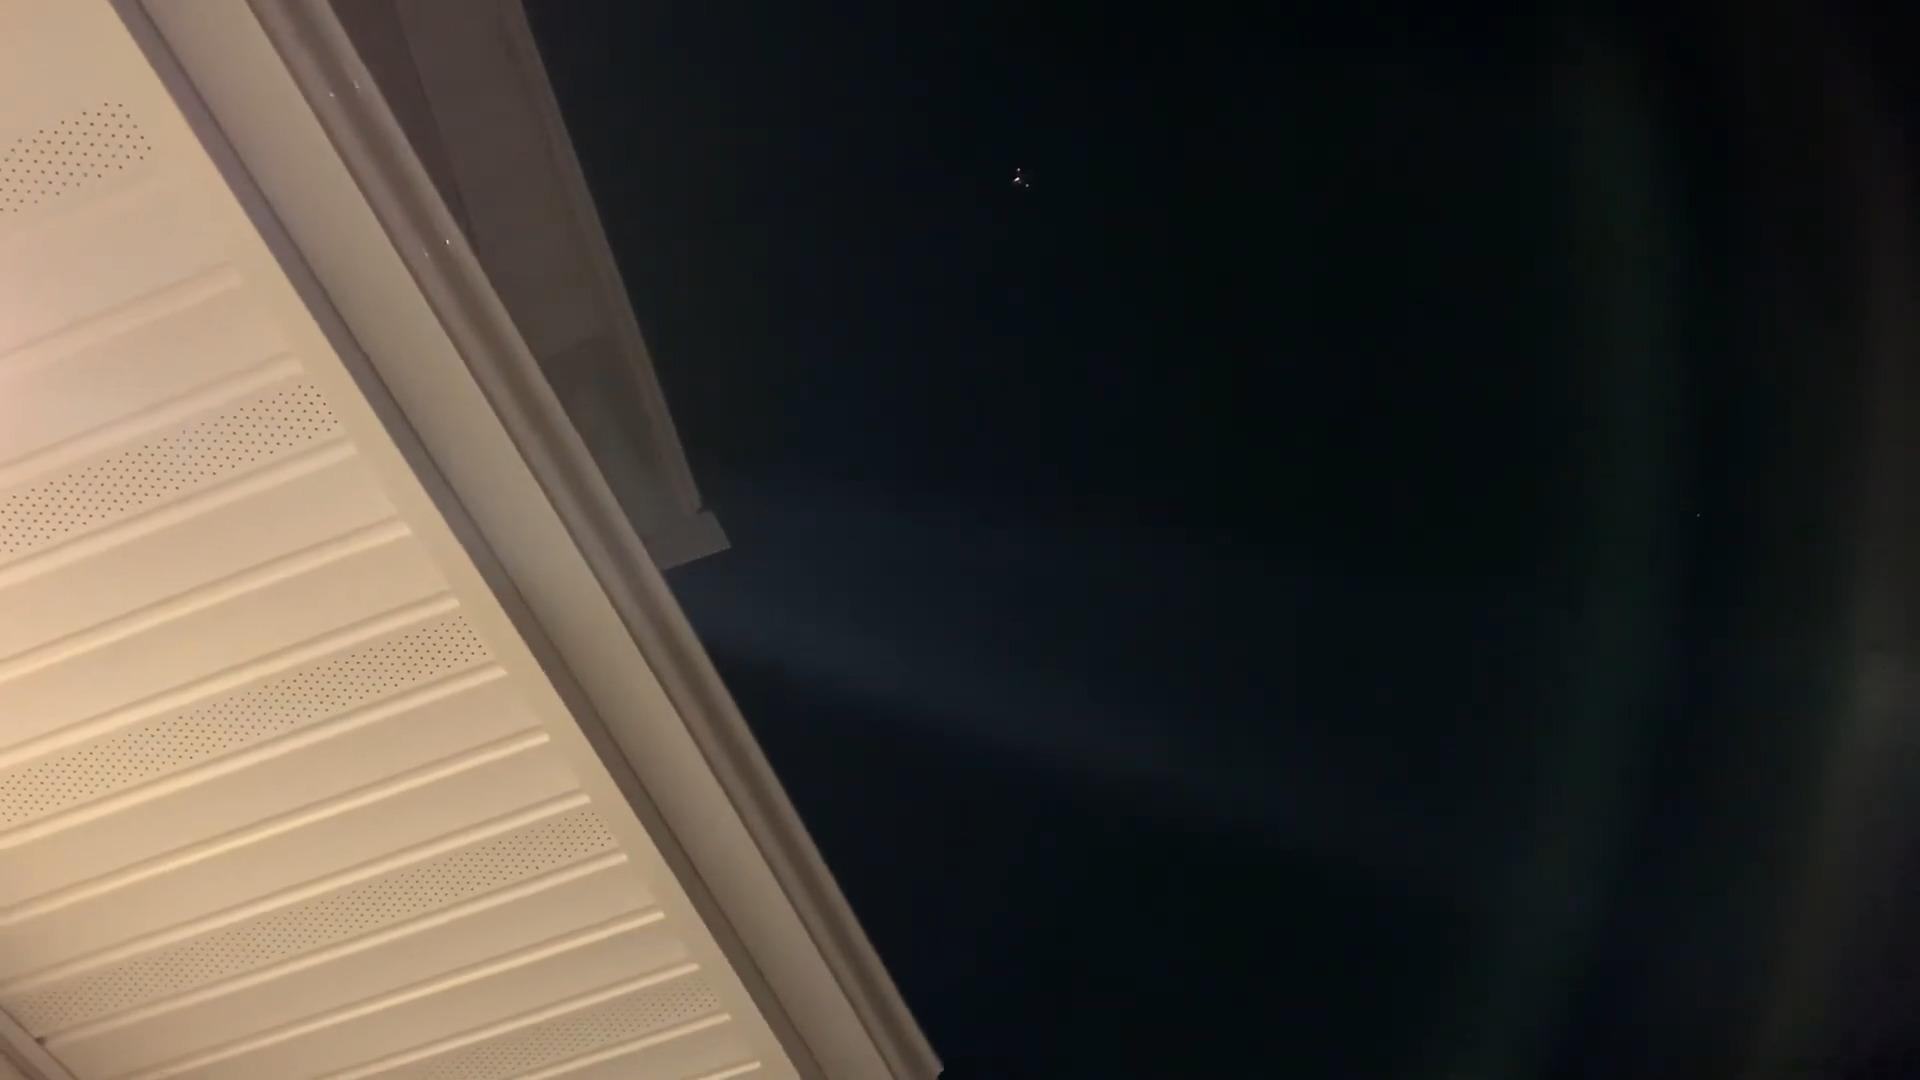Plane: (985, 138, 1064, 204)
